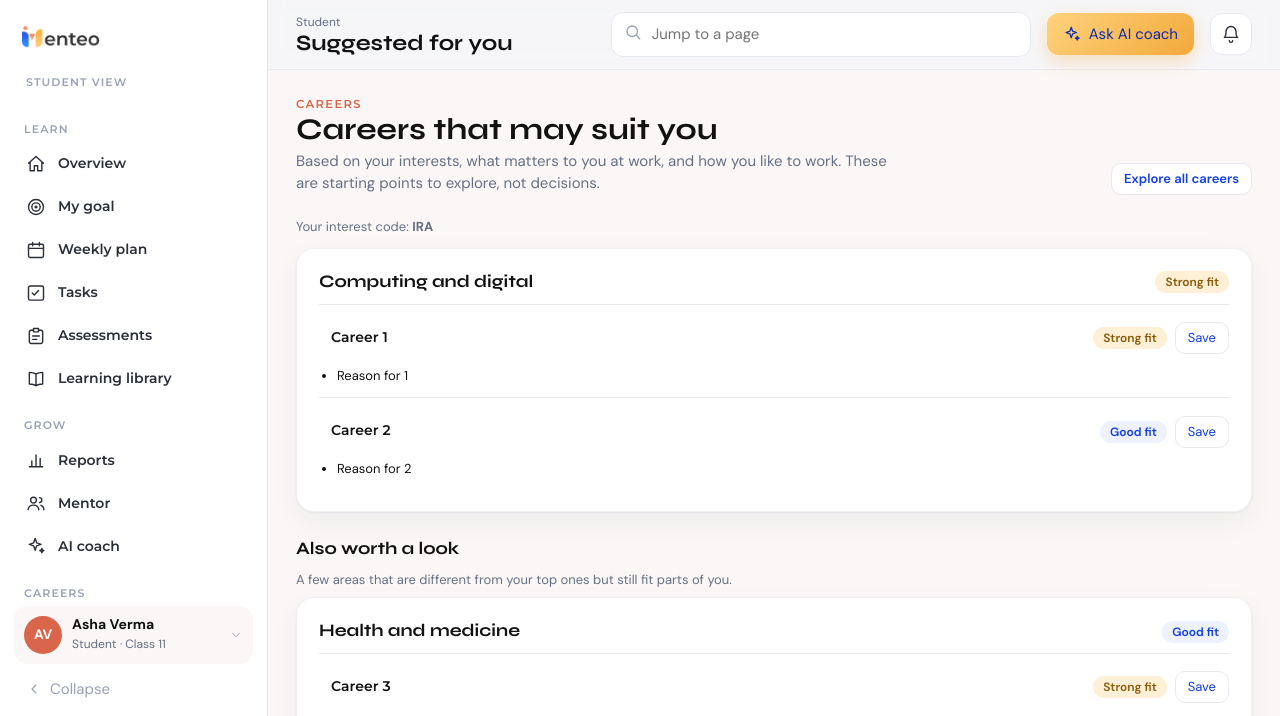
Test case: suggested for you › lets the student save a suggested career
Click the button with aria-label "save to my shortlist: career 1". click: (1202, 338)
box: [1175,322,1229,354]
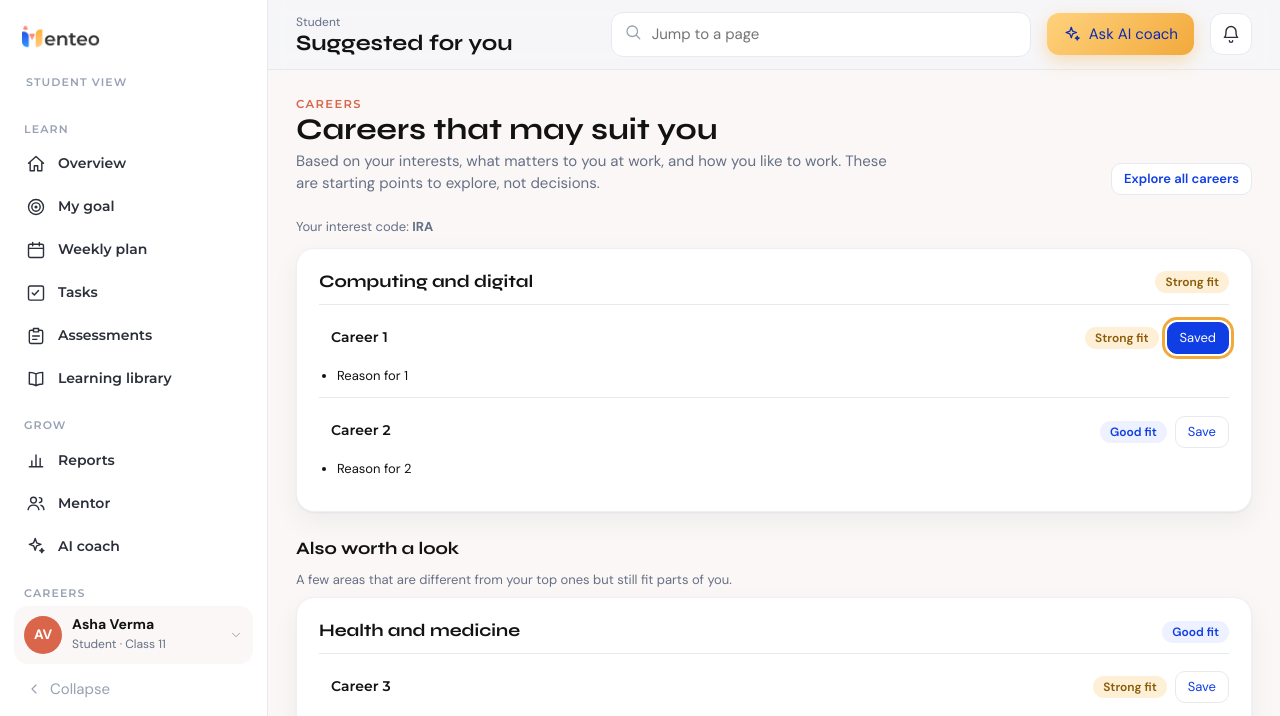
Expected: the button with aria-label "remove from my shortlist: career 1" is shown, [1167,322,1229,354]
